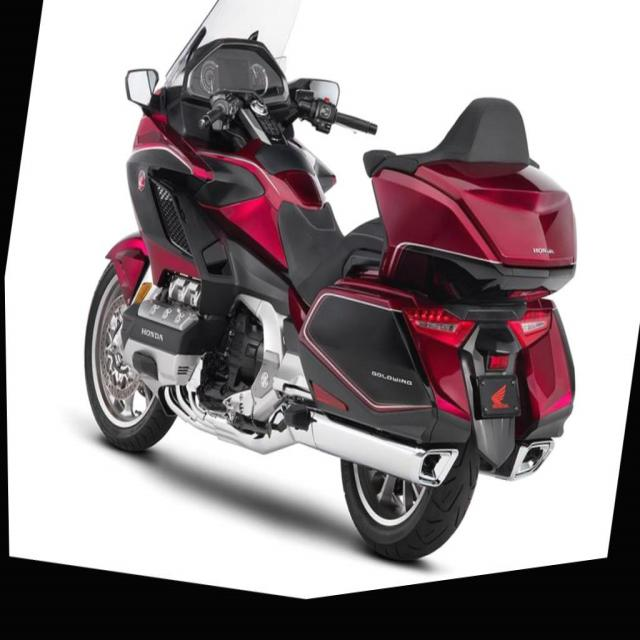Gold Wing: (51, 0, 635, 634)
